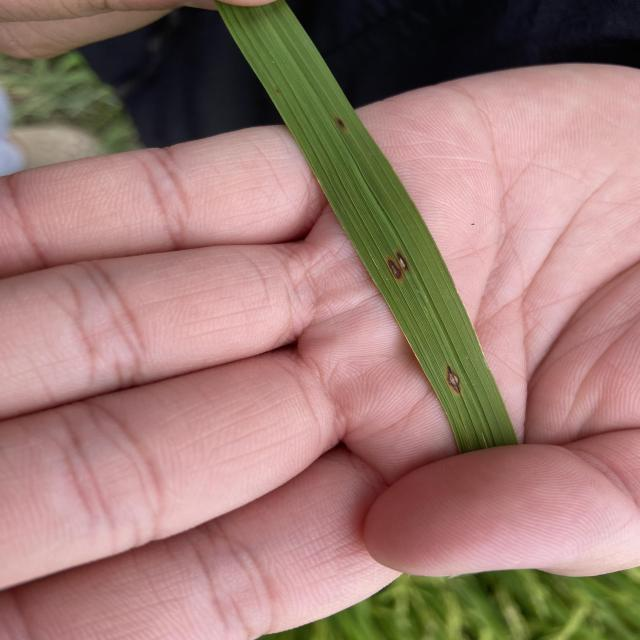Dao on: (385, 256, 404, 281), (395, 251, 408, 271)
